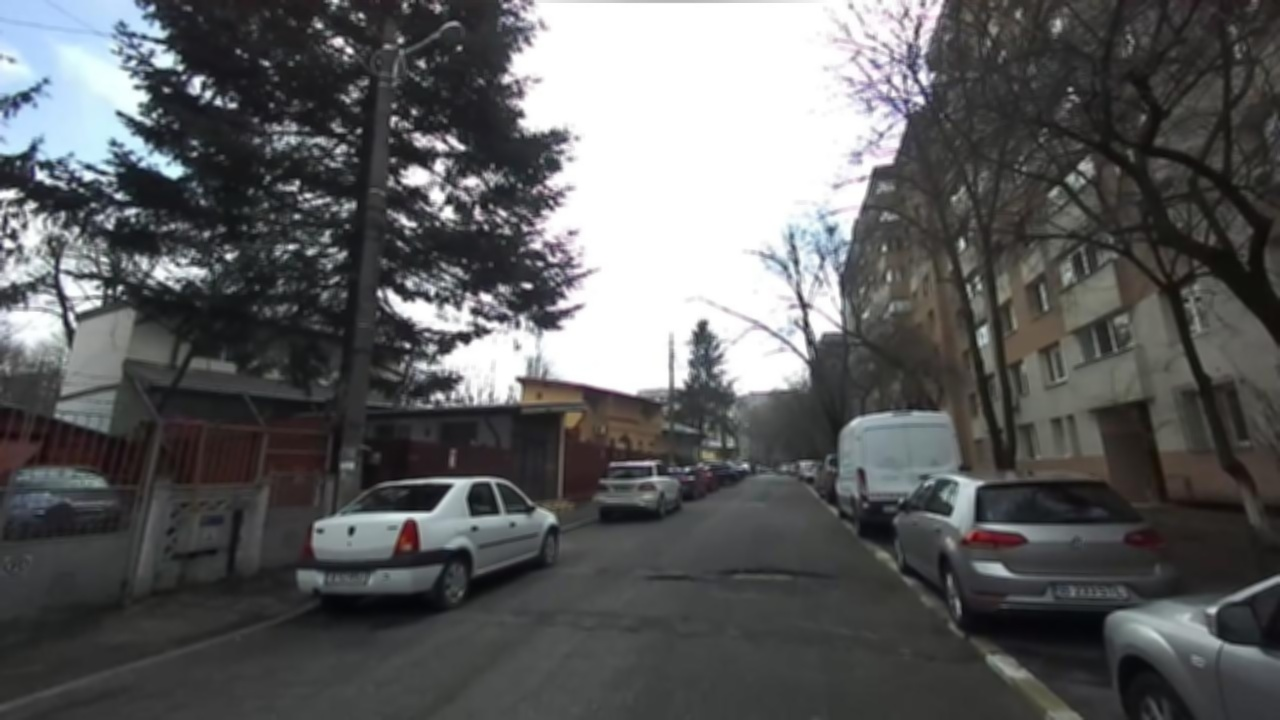pothole: (715, 563, 838, 585), (644, 572, 700, 584)
